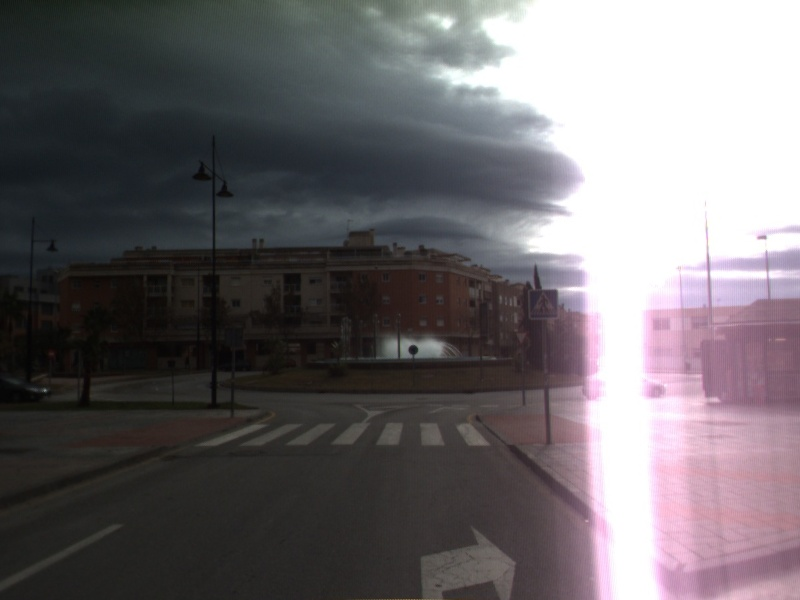RIGHT: (416, 520, 519, 600)
